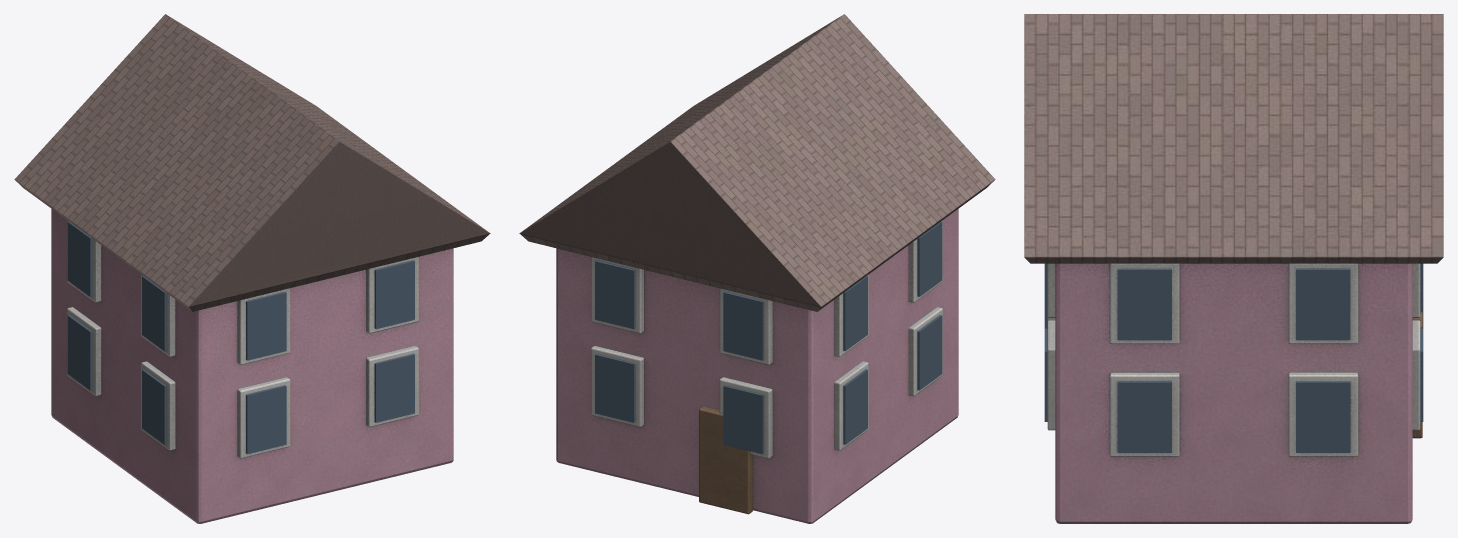
File: reihe_romance.glb
3 renders of one model, left to right at view 1: azimuth 30°, elevation 25°; view 2: azimuth 150°, elevation 25°; view 3: azimuth 270°, elevation 25°, orthographic. The views are drawn at different scales.
Parts seen in each view (by area): view 1: reihe_romance, reihe_romance_details; view 2: reihe_romance, reihe_romance_details; view 3: reihe_romance, reihe_romance_details.
Boxes of the visible parts, box(x1,y1,x2,y2) form: reihe_romance: box(14, 14, 490, 523); reihe_romance_details: box(67, 221, 414, 453); reihe_romance: box(519, 14, 995, 523); reihe_romance_details: box(595, 221, 942, 453); reihe_romance: box(1024, 14, 1443, 523); reihe_romance_details: box(1044, 263, 1423, 452).
Size of the model in its own units: 0.54 by 0.62 by 0.54.
2 materials, 1 textured.
